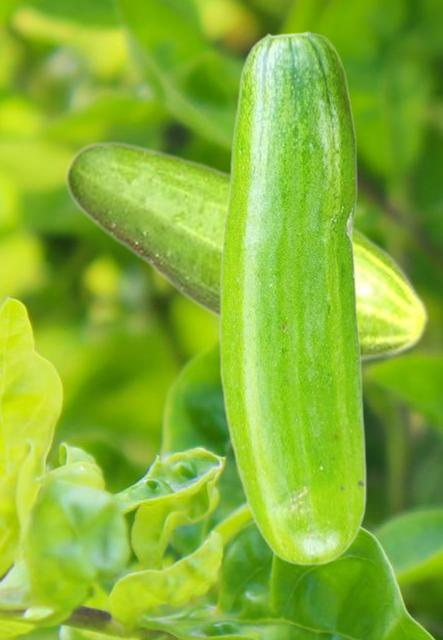cucumber: (64, 140, 429, 364), (219, 30, 366, 565)
